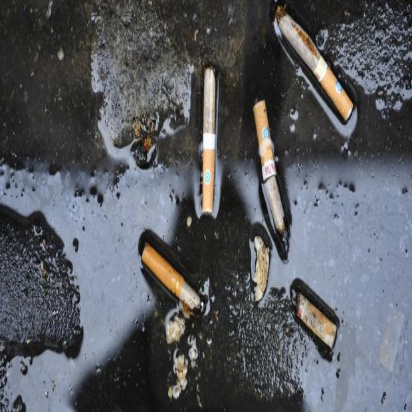cigarette: (271, 10, 358, 128), (243, 96, 293, 244), (138, 239, 205, 321), (285, 281, 347, 352), (197, 63, 222, 221)
